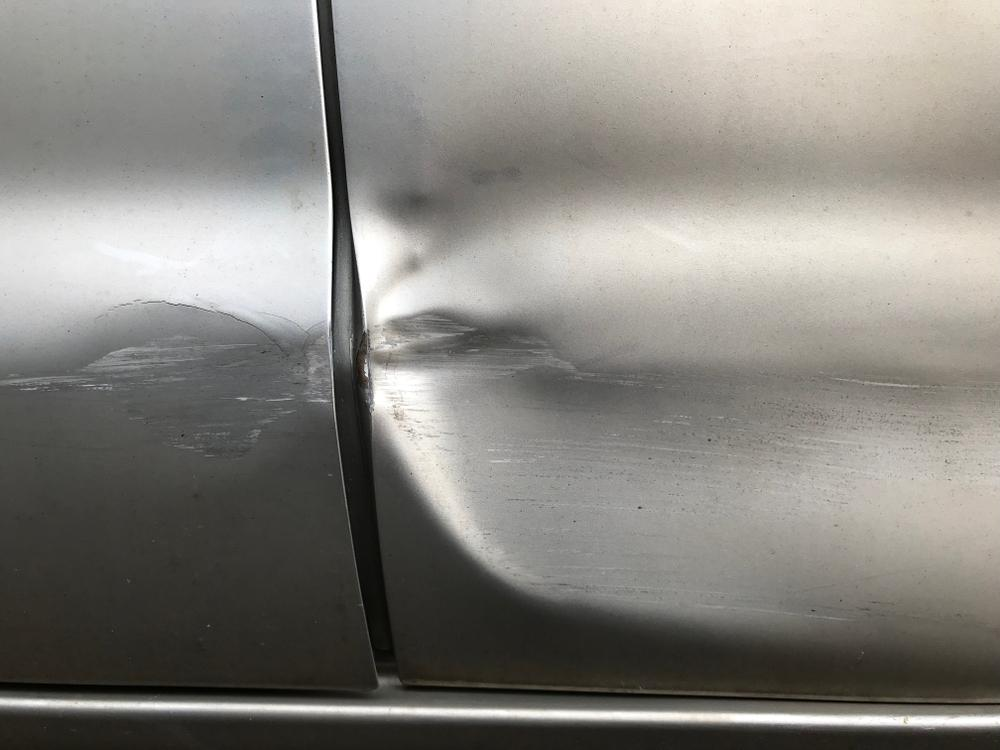dent: (363, 92, 1000, 629)
scratch: (0, 319, 335, 458)
